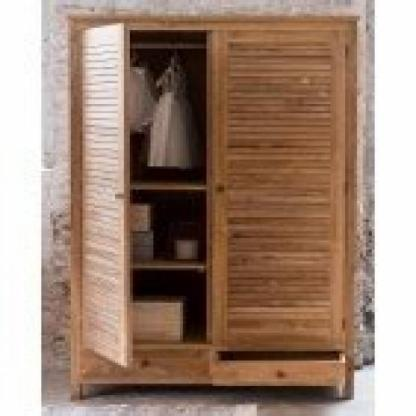Closet: (59, 11, 362, 406)
